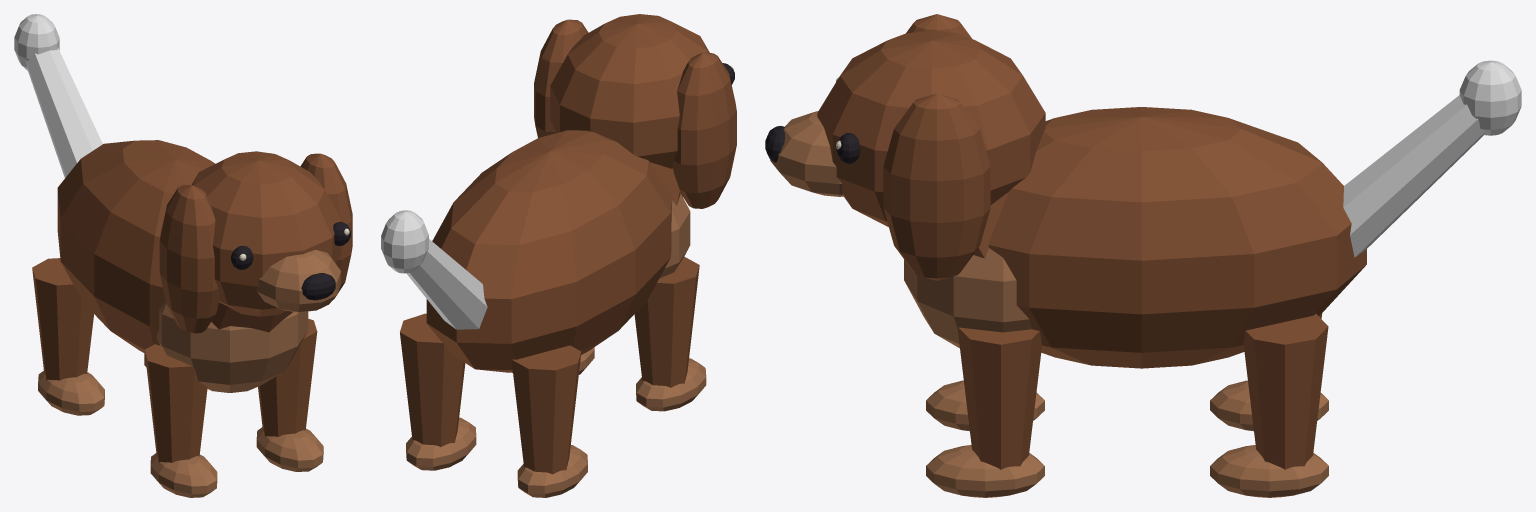
The model's file is dog_brown.fbx.
3 views of the same model, side by side, from view 1: azimuth 30°, elevation 25°; view 2: azimuth 150°, elevation 25°; view 3: azimuth 270°, elevation 25° (orthographic). The views are drawn at different scales.
Parts seen in each view (by area): view 1: Body, HindLeft, ForeLeft, Tail, ForeRight; view 2: Body, HindLeft, HindRight, ForeLeft, Tail; view 3: Body, HindRight, ForeRight, Tail, HindLeft, ForeLeft.
Part boxes in pixels (left/top/right/bottom): Body: left=57, top=140, right=352, bottom=392; HindLeft: left=32, top=258, right=104, bottom=415; ForeLeft: left=144, top=344, right=217, bottom=497; Tail: left=14, top=14, right=102, bottom=177; ForeRight: left=256, top=319, right=323, bottom=471; Body: left=426, top=14, right=736, bottom=372; HindLeft: left=511, top=345, right=587, bottom=497; HindRight: left=400, top=313, right=476, bottom=470; ForeLeft: left=634, top=256, right=706, bottom=411; Tail: left=381, top=210, right=487, bottom=329; Body: left=765, top=14, right=1366, bottom=368; HindRight: left=1210, top=314, right=1328, bottom=497; ForeRight: left=926, top=327, right=1044, bottom=497; Tail: left=1343, top=60, right=1521, bottom=257; HindLeft: left=1210, top=313, right=1328, bottom=431; ForeLeft: left=926, top=380, right=1044, bottom=431.
Size of the model in its own units: 47.26 by 84.24 by 138.
